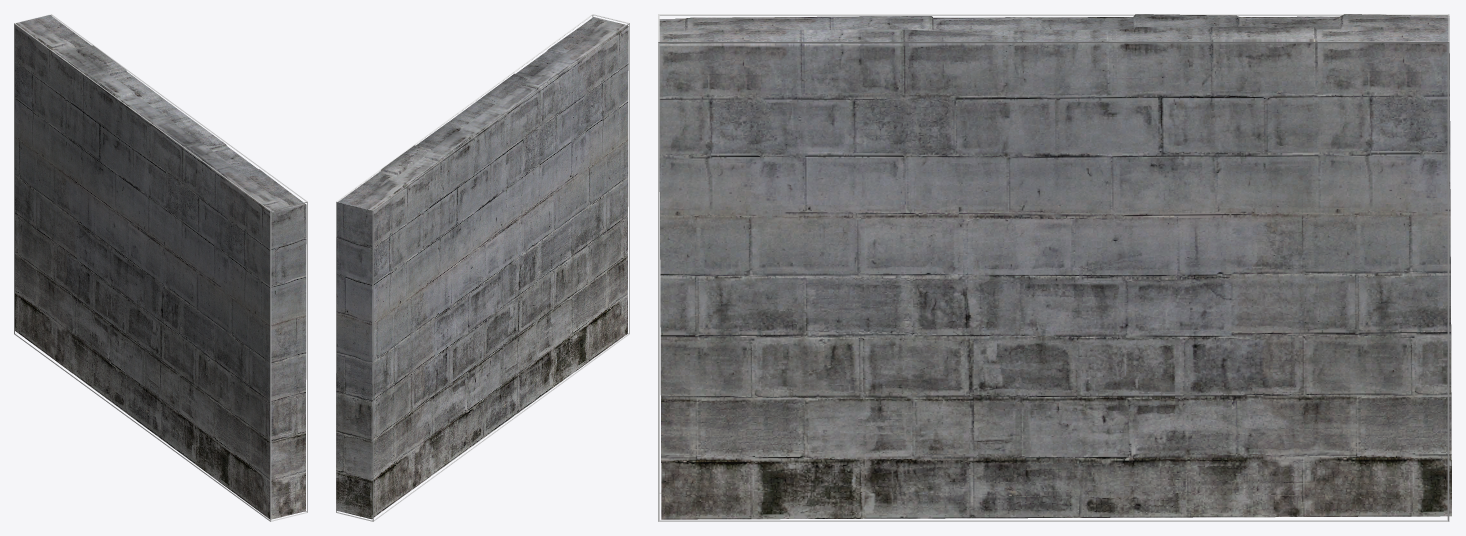
Rendered from concrete_wall_simple_4m.fbx.
3 views of the same model, side by side, from view 1: azimuth 30°, elevation 25°; view 2: azimuth 150°, elevation 25°; view 3: azimuth 270°, elevation 25° (orthographic). The views are drawn at different scales.
Parts seen in each view (by area): view 1: concrete_wall_simple_mesh, px_concrete_wall_simple_mesh; view 2: concrete_wall_simple_mesh, px_concrete_wall_simple_mesh; view 3: concrete_wall_simple_mesh, px_concrete_wall_simple_mesh.
Boxes of the visible parts, bbox=[...] form: concrete_wall_simple_mesh: bbox=[15, 15, 306, 519]; px_concrete_wall_simple_mesh: bbox=[14, 14, 307, 521]; concrete_wall_simple_mesh: bbox=[336, 17, 628, 519]; px_concrete_wall_simple_mesh: bbox=[336, 14, 629, 521]; concrete_wall_simple_mesh: bbox=[659, 14, 1451, 519]; px_concrete_wall_simple_mesh: bbox=[658, 14, 1449, 521].
Bounding box in the file's own units: 0.3365 × 2.69 × 4.02.
1 material, 1 textured.
